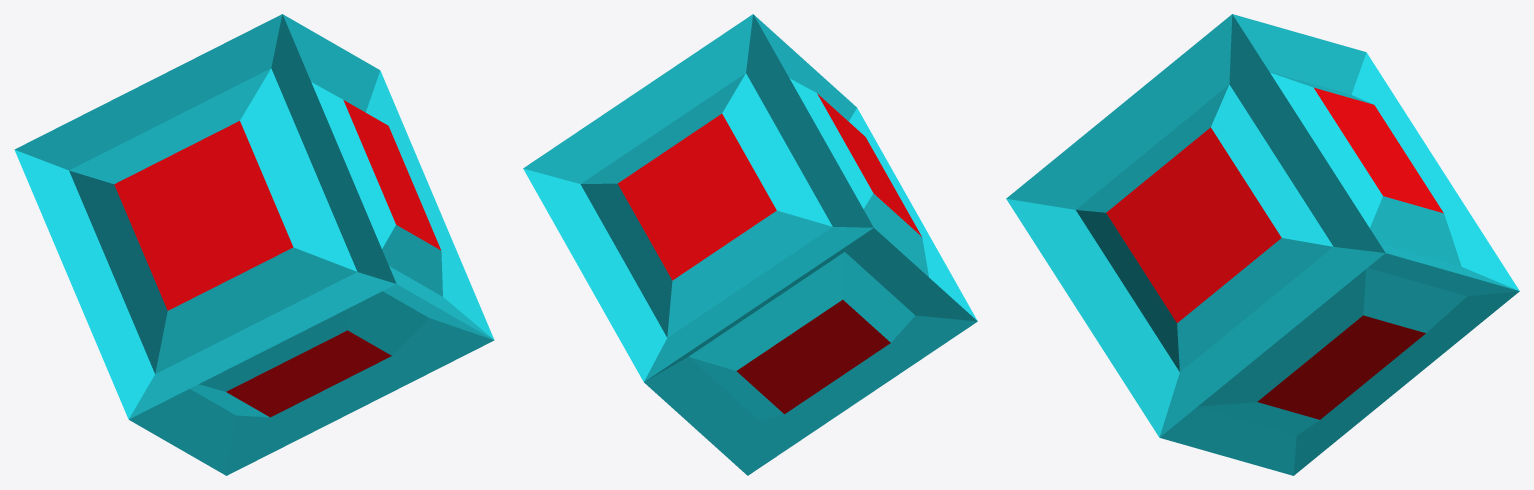
File: forceCollectable.fbx
3 renders of one model, left to right at view 1: azimuth 30°, elevation 25°; view 2: azimuth 150°, elevation 25°; view 3: azimuth 270°, elevation 25°, orthographic. The views are drawn at different scales.
Parts seen in each view (by area): view 1: Cube, Cube.001; view 2: Cube, Cube.001; view 3: Cube, Cube.001.
Boxes of the visible parts, bbox=[...] form: Cube: bbox=[14, 14, 494, 475]; Cube.001: bbox=[114, 100, 441, 417]; Cube: bbox=[523, 14, 977, 475]; Cube.001: bbox=[617, 93, 921, 414]; Cube: bbox=[1006, 14, 1519, 475]; Cube.001: bbox=[1106, 87, 1443, 419].
Size of the model in its own units: 282 by 344 by 337.
